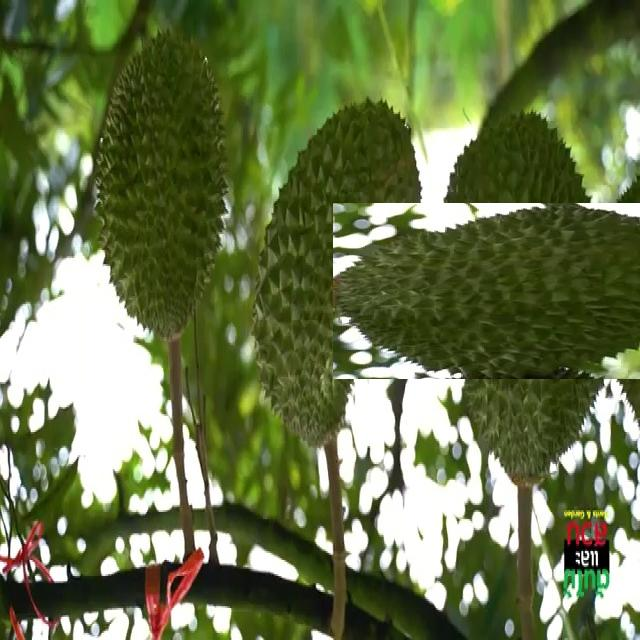durian: (385, 151, 640, 431), (250, 90, 424, 447), (91, 22, 231, 342)
